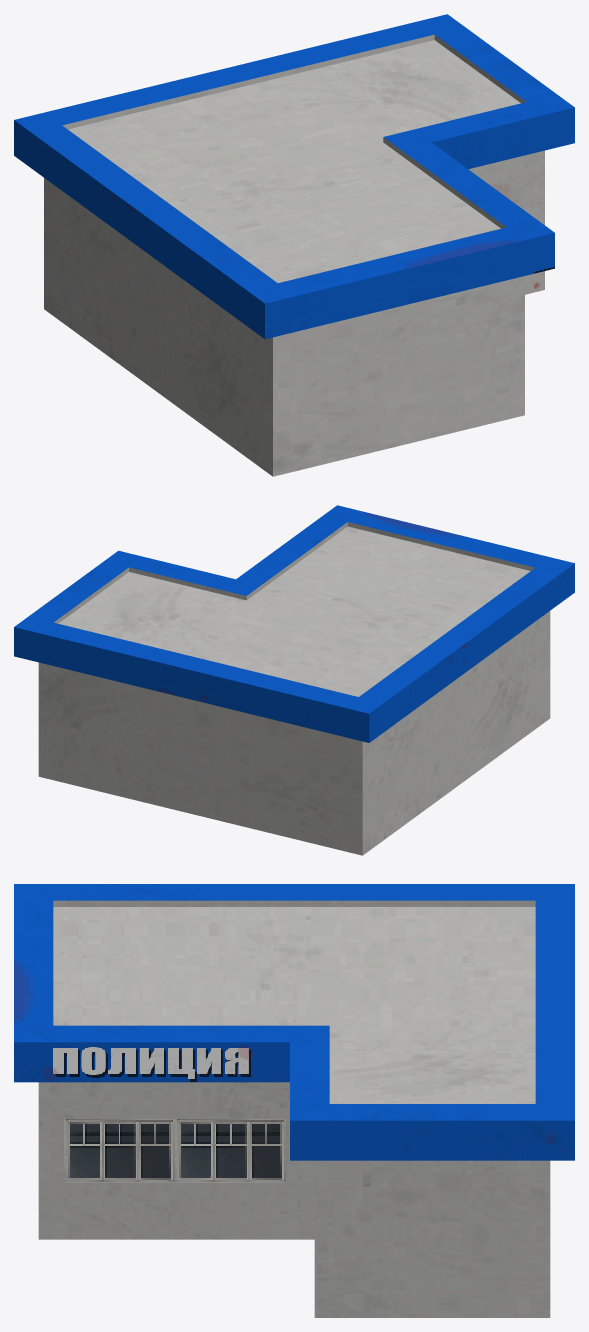
Rendered from police.glb.
3 renders of one model, top to bottom at view 1: azimuth 30°, elevation 25°; view 2: azimuth 150°, elevation 25°; view 3: azimuth 270°, elevation 25°, orthographic. The views are drawn at different scales.
Visible parts, largest first — view 1: Cube; view 2: Cube; view 3: Cube.
Boxes of the visible parts, x1,y1,x2,y2 form: Cube: [14, 14, 574, 476]; Cube: [14, 505, 574, 855]; Cube: [14, 884, 574, 1317].
Size of the model in its own units: 6.05 by 2.48 by 6.06.
1 material, 1 textured.
